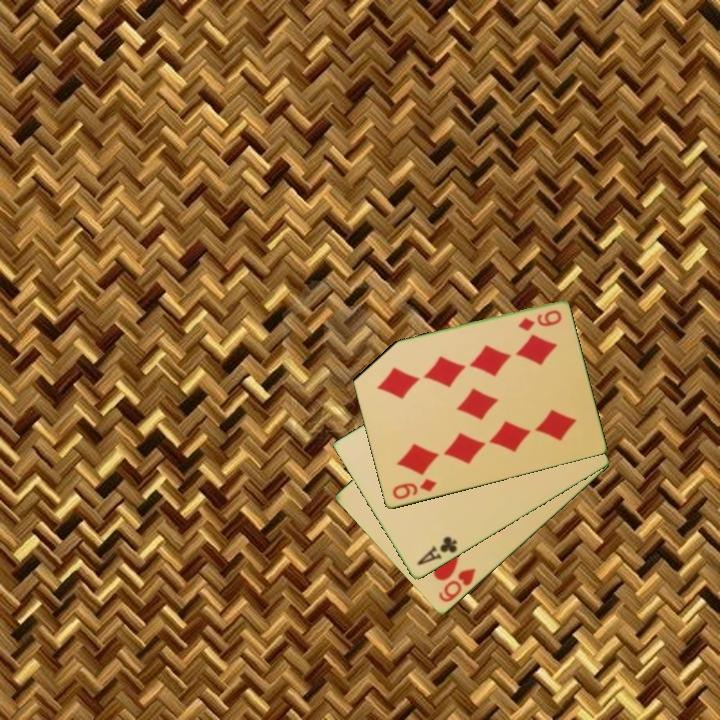6h: (435, 565, 479, 606)
9d: (389, 475, 439, 503), (514, 307, 564, 334)
Ac: (414, 533, 460, 569)
